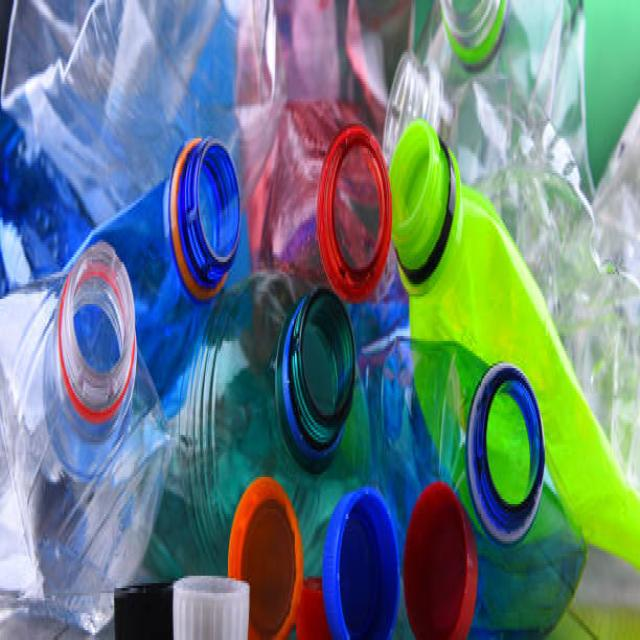plastic: (39, 106, 573, 554)
